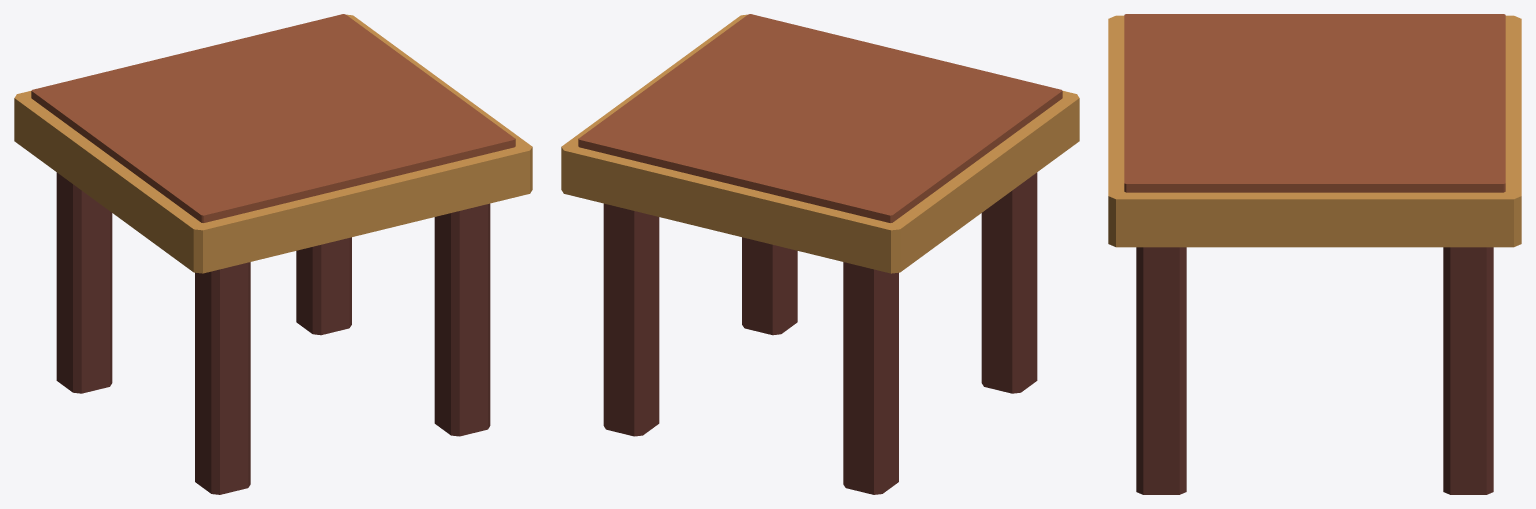
File: Table.fbx
3 views of the same model, side by side, from view 1: azimuth 30°, elevation 25°; view 2: azimuth 150°, elevation 25°; view 3: azimuth 270°, elevation 25° (orthographic). The views are drawn at different scales.
Parts seen in each view (by area): view 1: Table.005; view 2: Table.005; view 3: Table.005.
Boxes of the visible parts, <box> form: Table.005: <box>14,14,532,494</box>; Table.005: <box>561,14,1079,494</box>; Table.005: <box>1108,14,1521,494</box>.
Size of the model in its own units: 82 by 66.75 by 78.
